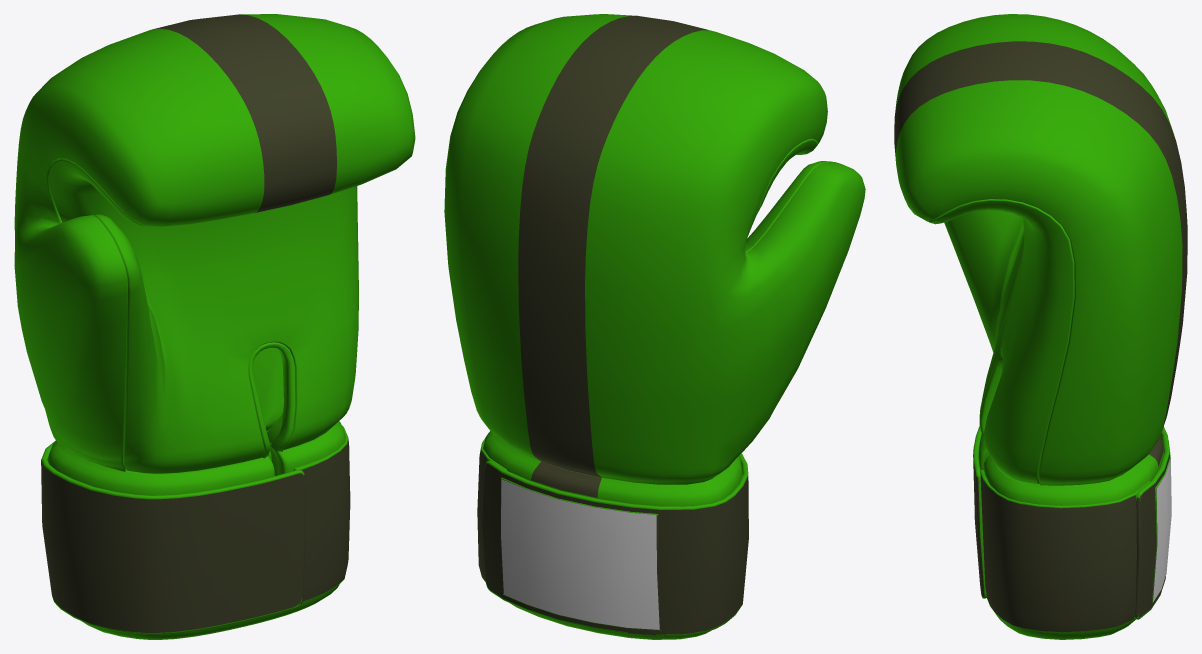
The model's file is GloveLeft.fbx.
3 views of the same model, side by side, from view 1: azimuth 30°, elevation 25°; view 2: azimuth 150°, elevation 25°; view 3: azimuth 270°, elevation 25° (orthographic). The views are drawn at different scales.
Parts seen in each view (by area): view 1: boxing_gloves; view 2: boxing_gloves; view 3: boxing_gloves.
Part boxes in pixels (x1,y1,x2,y2): boxing_gloves: (14,14,415,639); boxing_gloves: (444,14,865,639); boxing_gloves: (894,14,1187,639).
Size of the model in its own units: 19.28 by 30.19 by 15.1.
